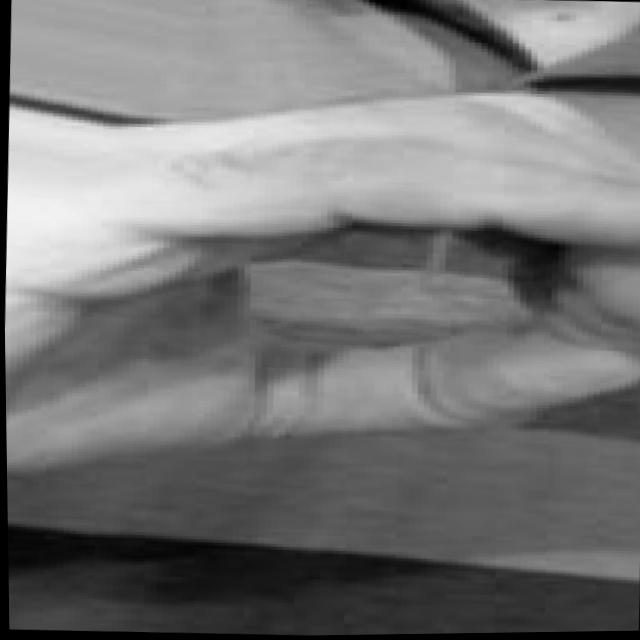O: (1, 65, 640, 490)
